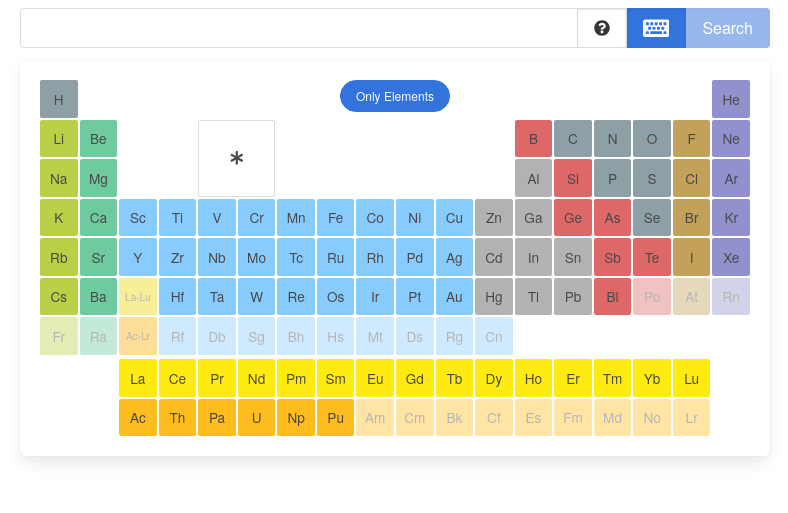
MaterialsInput › uses help examples to populate the input with validated values
Focus the search field with test id "materials-input-search-input" at (299, 28), box x1=20 y1=8 x2=578 y2=48
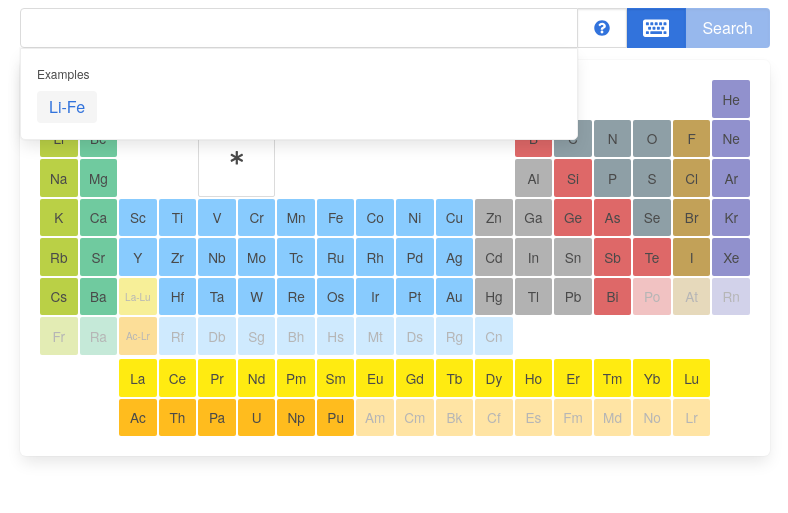
Press the mouse on the link "Li-Fe" at (67, 107), box x1=37 y1=91 x2=97 y2=123
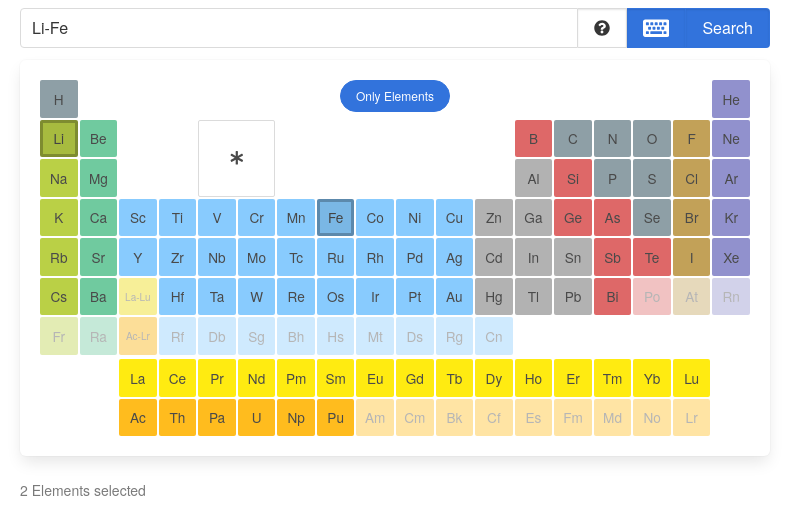
Check: the search field with test id "materials-input-search-input" holds "Li-Fe", box x1=20 y1=8 x2=578 y2=48
